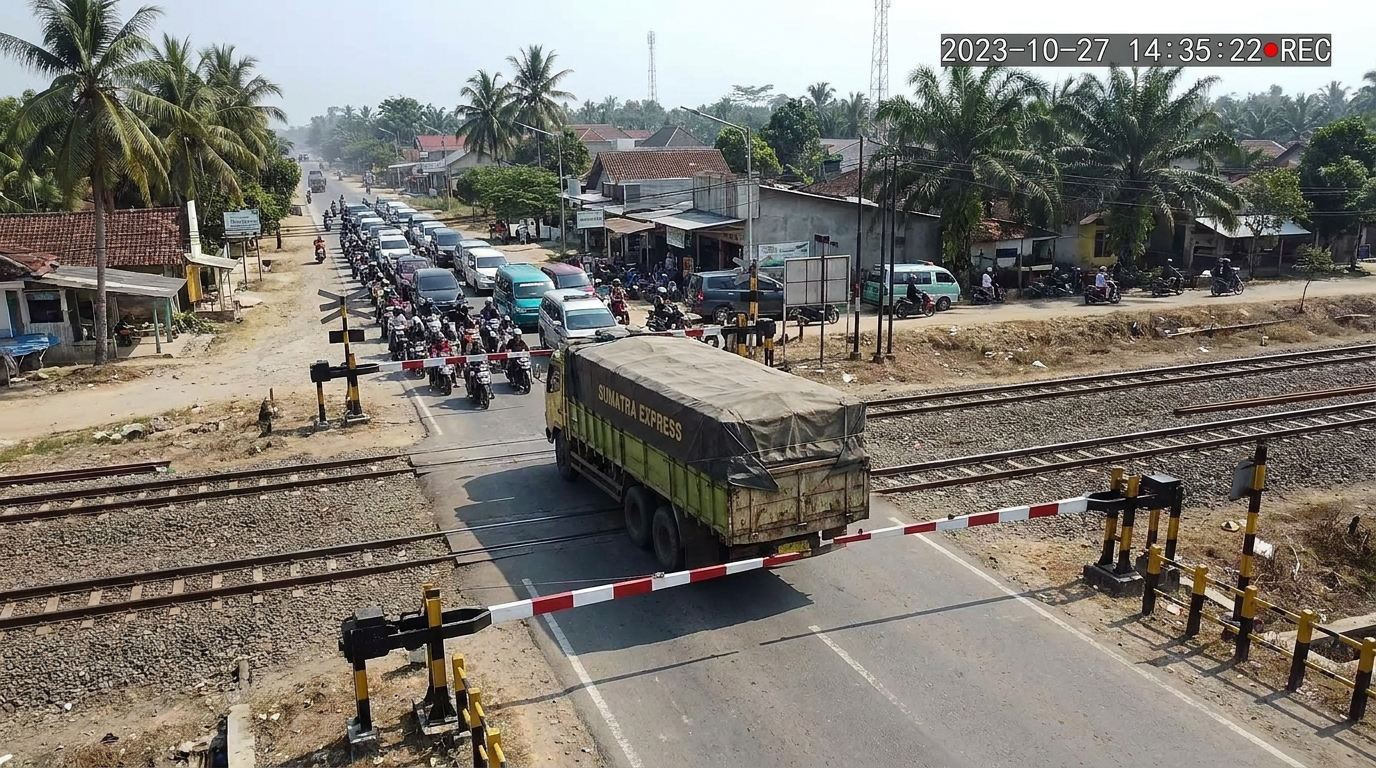danger: (545, 334, 869, 569), (488, 553, 803, 622), (837, 497, 1086, 542), (380, 352, 548, 371), (645, 326, 721, 342)
